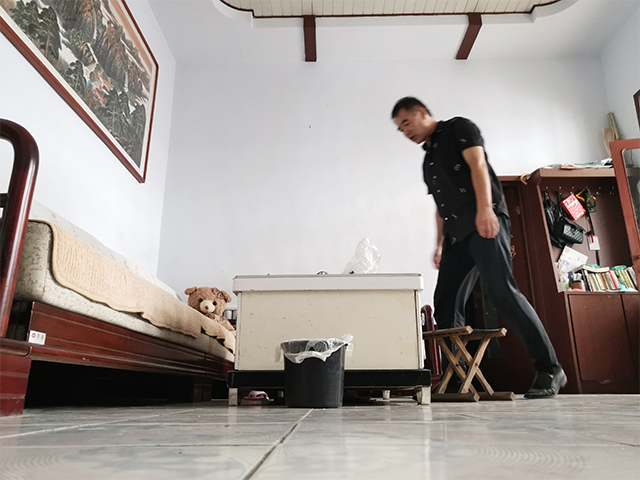cabinet: (520, 166, 640, 396)
sofa: (1, 116, 236, 419)
stool: (421, 324, 517, 404)
table: (225, 271, 431, 408)
trashcan: (277, 339, 348, 409)
